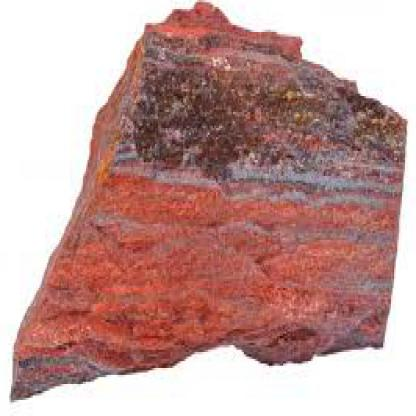Metamorphic_Quartize: (6, 2, 413, 409)
